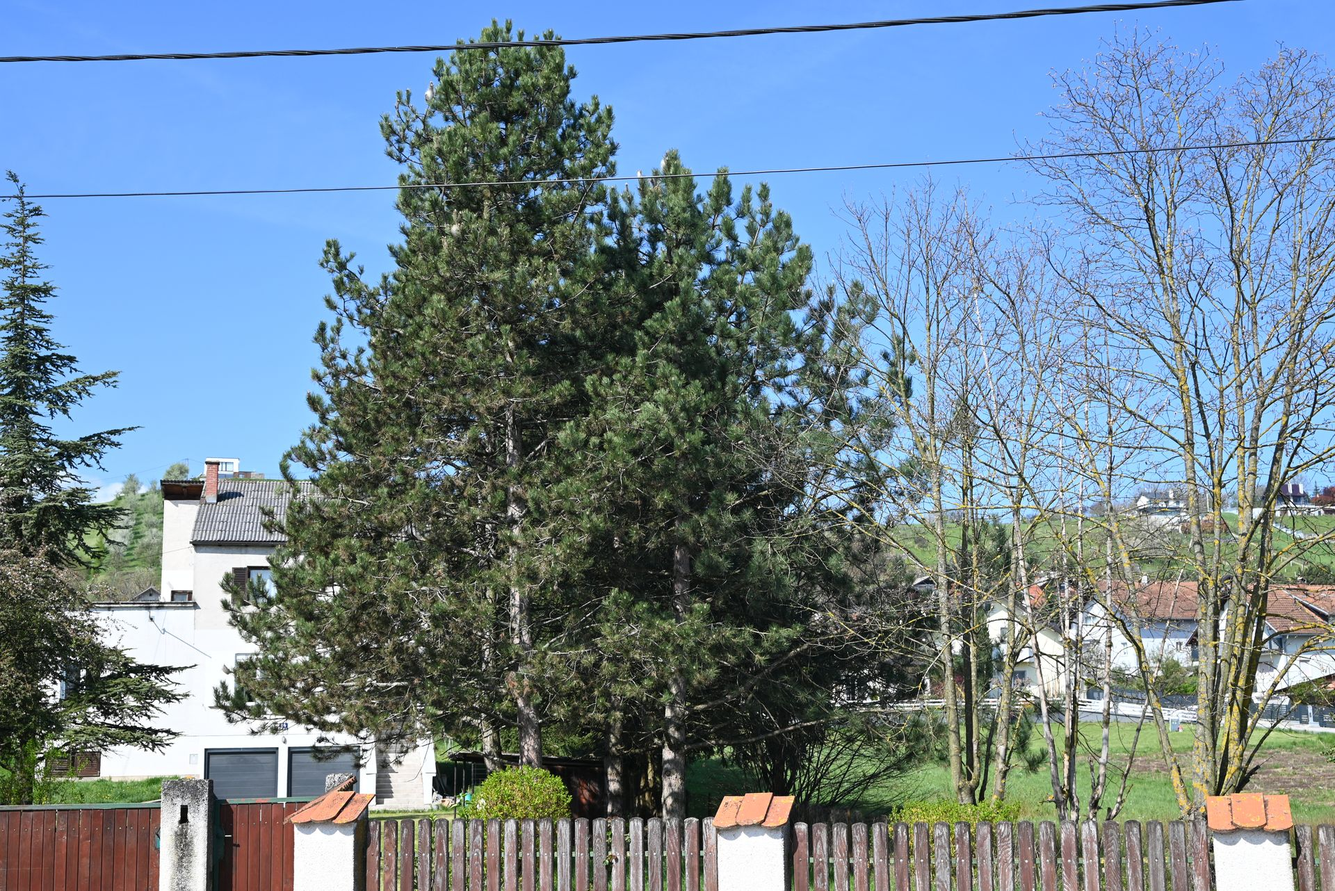thaumatopoea pityocampa jajno gnijezdo: (448, 223, 465, 240), (422, 87, 438, 105), (659, 156, 670, 172), (633, 170, 647, 182)
